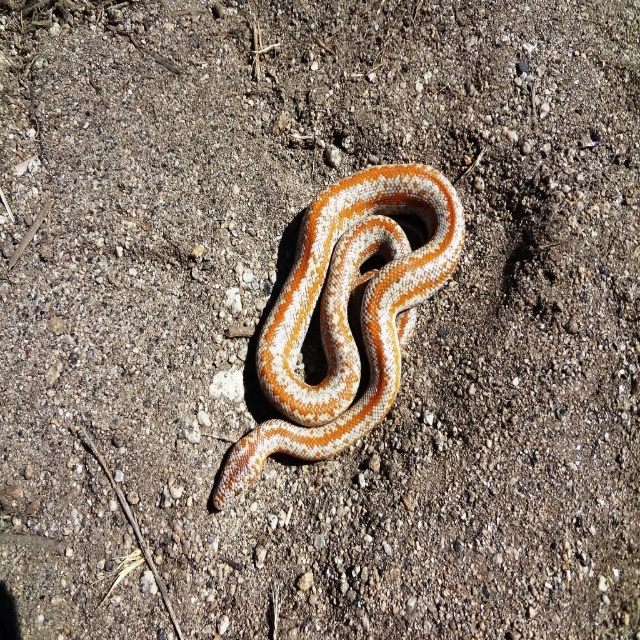Snake: (208, 165, 465, 512)
